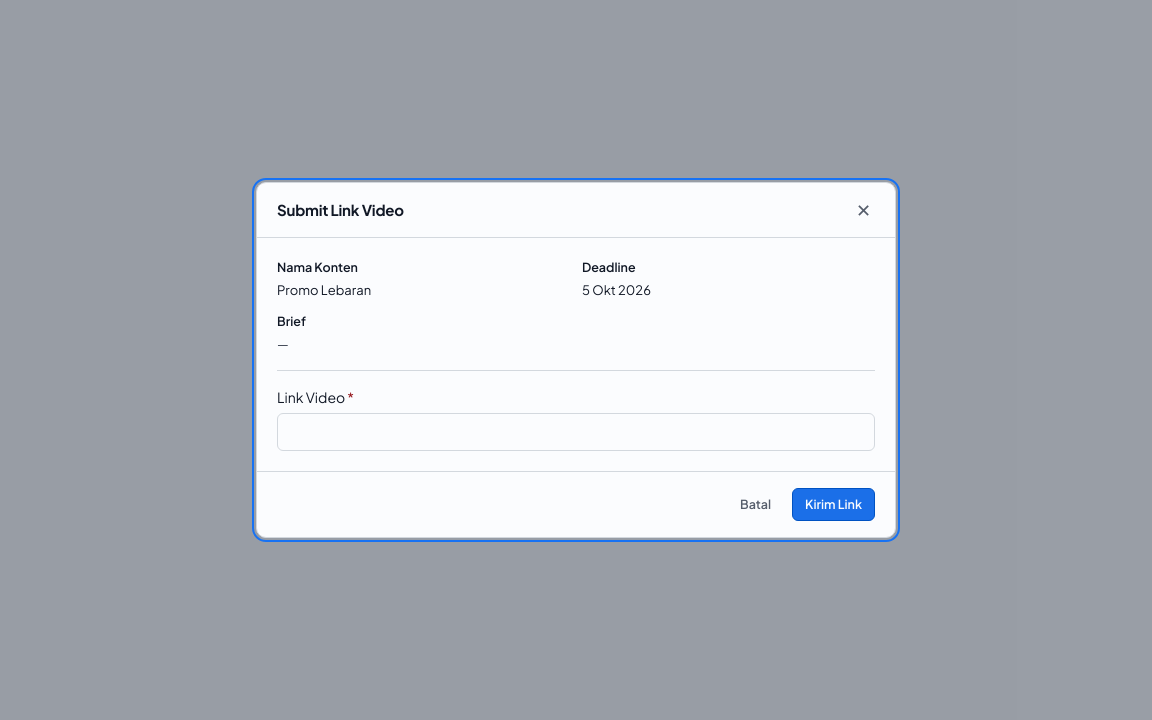
Test case: SubmitVideoModal › rejects a empty video link
The width and height of the screenshot is (1152, 720).
Click the button "Kirim Link": (834, 505) [792,488,875,521]
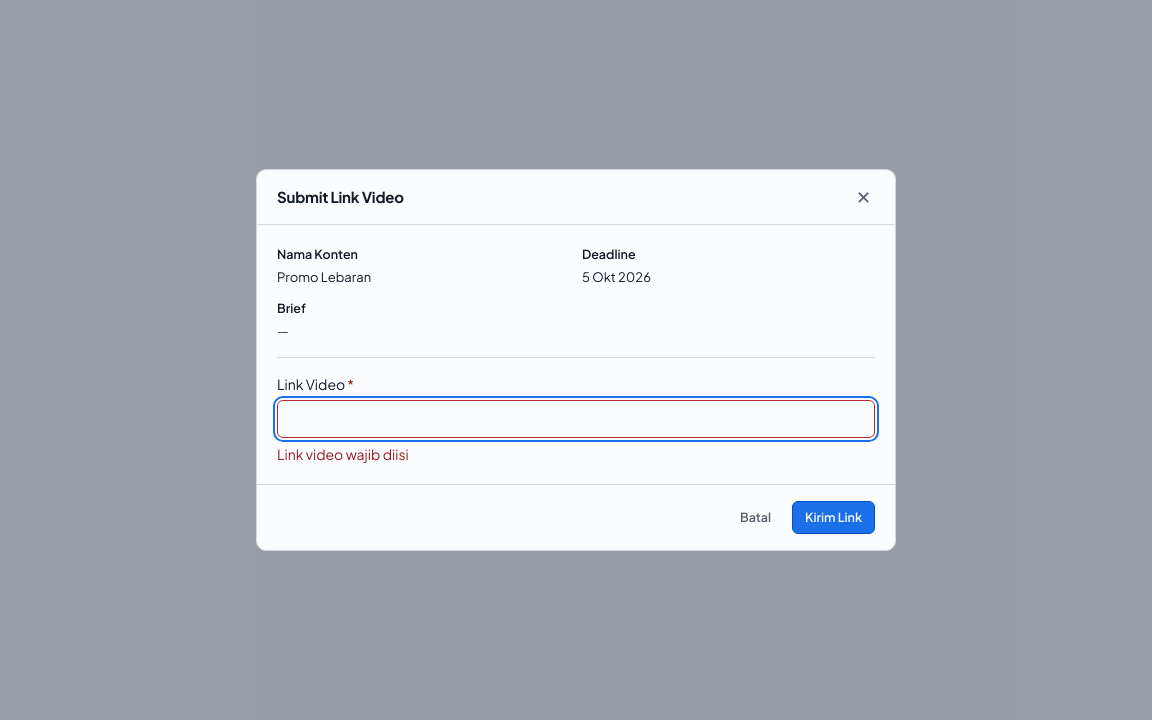
Result: the text "Link video wajib diisi" is shown at [277,445,409,463]
